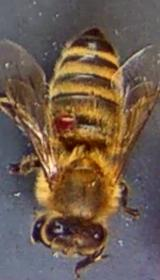varroa_mite: (50, 104, 83, 134)
